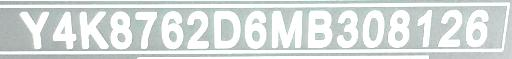letter: (268, 9, 304, 50), (18, 8, 50, 49), (78, 10, 110, 51), (211, 8, 241, 51), (436, 8, 464, 49), (305, 8, 333, 49), (51, 8, 79, 49), (334, 7, 360, 50), (385, 7, 411, 50), (184, 9, 210, 50), (464, 7, 488, 50), (361, 7, 385, 50), (244, 8, 268, 51), (109, 9, 133, 52), (134, 8, 158, 49), (160, 9, 184, 50), (415, 6, 433, 51)
